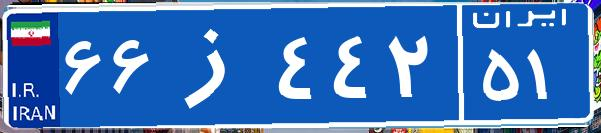1: (525, 38, 570, 115)
2: (385, 28, 445, 110)
4: (273, 28, 330, 110), (330, 28, 385, 110)
5: (475, 38, 525, 113)
6: (57, 26, 110, 107), (110, 28, 158, 105)
ز: (158, 15, 273, 115)
